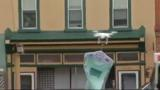UAV: (92, 30, 119, 44)
